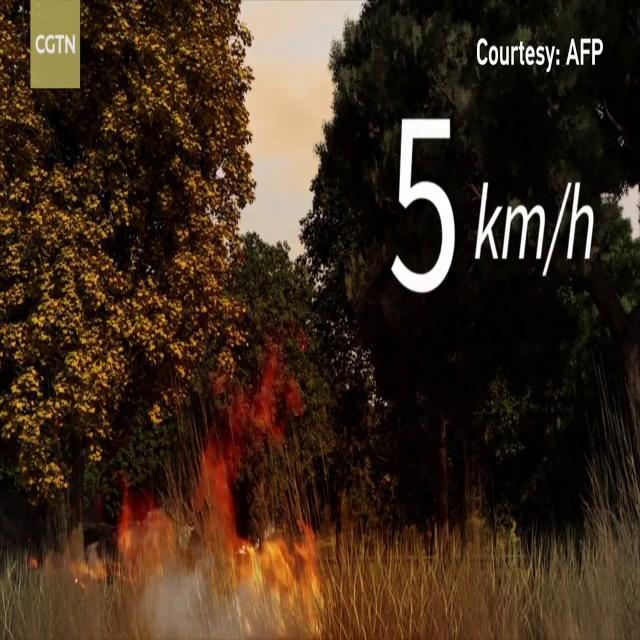Fire: (74, 348, 336, 634)
